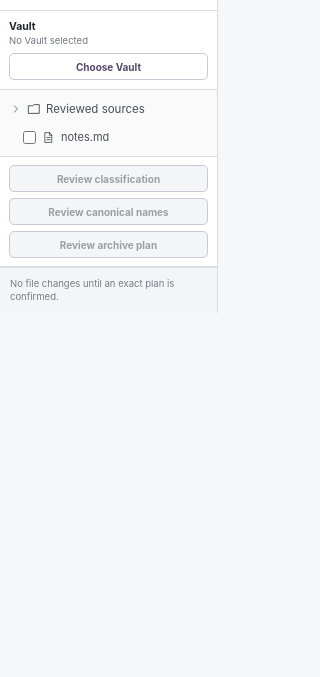
Test: archive preview › applies only an Agent-resolved semantic suggestion to the editable review form
Click the checkbox labelled "notes.md": (30, 137) [23, 130, 36, 144]
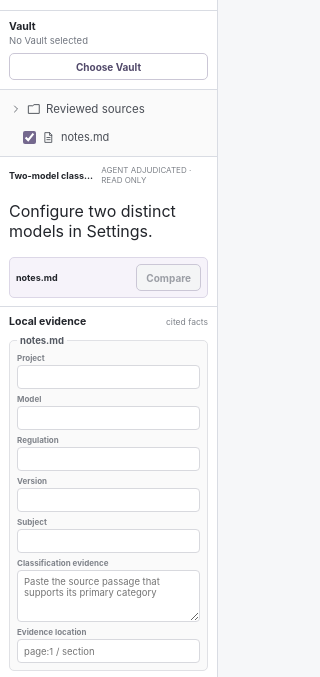
Click the button "Choose Vault": (108, 66) [9, 53, 208, 80]
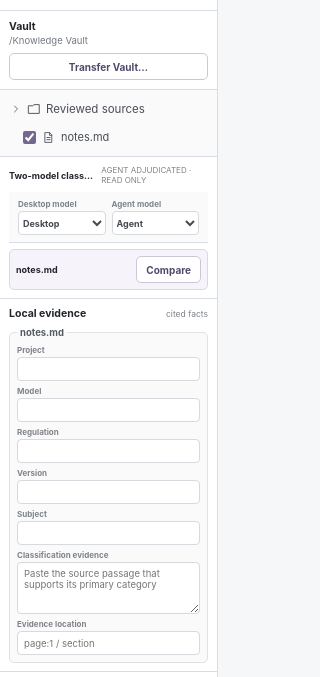
Expected: the field named "Subject for notes.md" is empty, [17, 521, 200, 545]
Expected: the text "/Knowledge Vault" is shown, [9, 35, 88, 46]
Click the button with aria-label "Compare notes.md with two models": (169, 270) [136, 256, 201, 283]
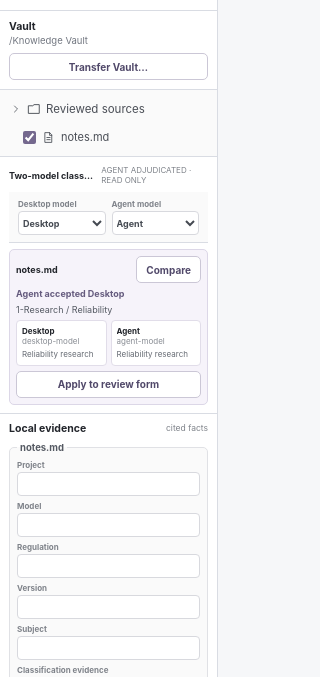
Expected: the field named "Subject for notes.md" is empty, [17, 636, 200, 660]
Expected: the text "Agent accepted Desktop" is shown, [16, 288, 124, 299]
Expected: the text "1-Research / Reliability" is shown, [16, 304, 112, 315]
Click the button with aria-label "Apply reviewed suggestion for notes.md": (108, 384) [16, 371, 201, 398]
(page scrolled)
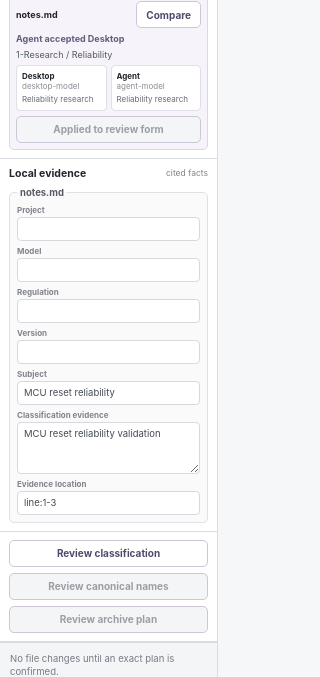
Expected: the field named "Subject for notes.md" holds "MCU reset reliability", [17, 381, 200, 405]
Expected: the text box named "Classification evidence for notes.md" holds "MCU reset reliability validation", [17, 422, 200, 474]
Click the button "Review classification": (108, 553) [9, 540, 208, 567]
(page scrolled)
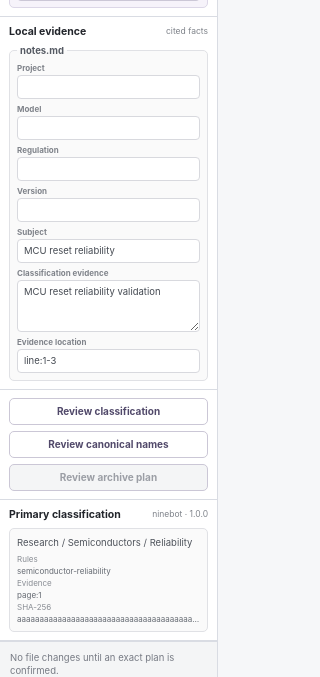
Expected: the element named "Classification review" is shown, [0, 500, 217, 641]
